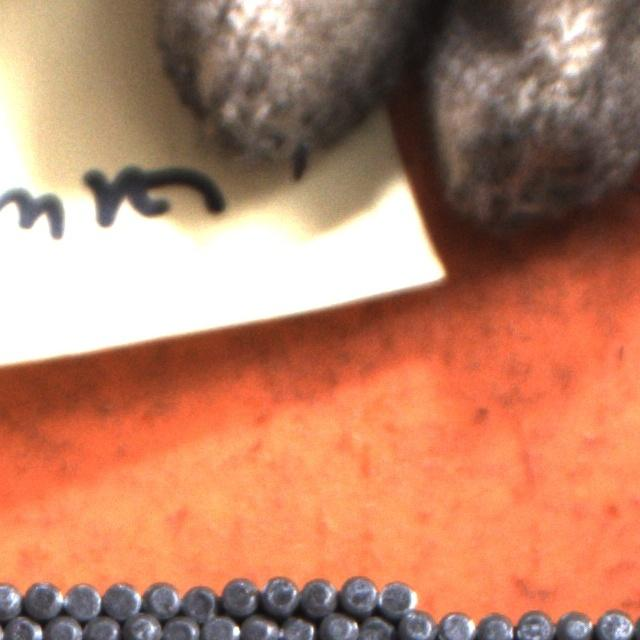tool: (340, 572, 379, 612), (218, 574, 258, 613), (62, 580, 100, 620), (101, 580, 140, 618), (24, 579, 62, 618), (260, 573, 299, 611), (299, 576, 337, 615), (143, 578, 181, 616), (180, 582, 217, 621), (378, 579, 416, 616), (595, 606, 634, 640), (556, 606, 594, 640), (398, 606, 436, 640), (438, 607, 477, 640), (516, 607, 554, 640), (476, 608, 514, 640), (318, 609, 357, 640), (122, 610, 162, 640), (239, 612, 277, 640), (201, 612, 239, 640), (82, 612, 120, 640), (278, 613, 316, 640), (161, 613, 199, 640), (42, 613, 80, 640), (356, 613, 394, 640), (3, 614, 42, 640), (0, 578, 23, 616)
